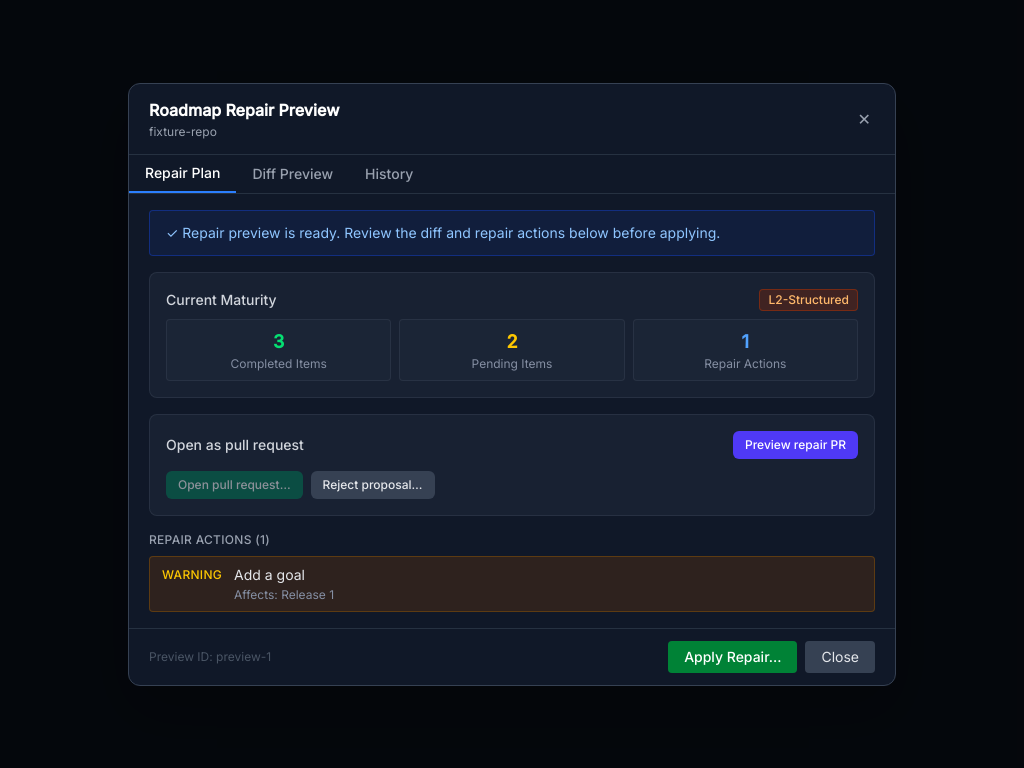
RoadmapRepairModal — the live PR and the recorded decision › requires a reason to reject, and records the rejection with its review time
The image size is (1024, 768).
Expected: the text "Repair preview is ready" is shown, [166,224,720,240]
Click the button with test id "repair-reject" at (373, 484), box [311,470,434,498]
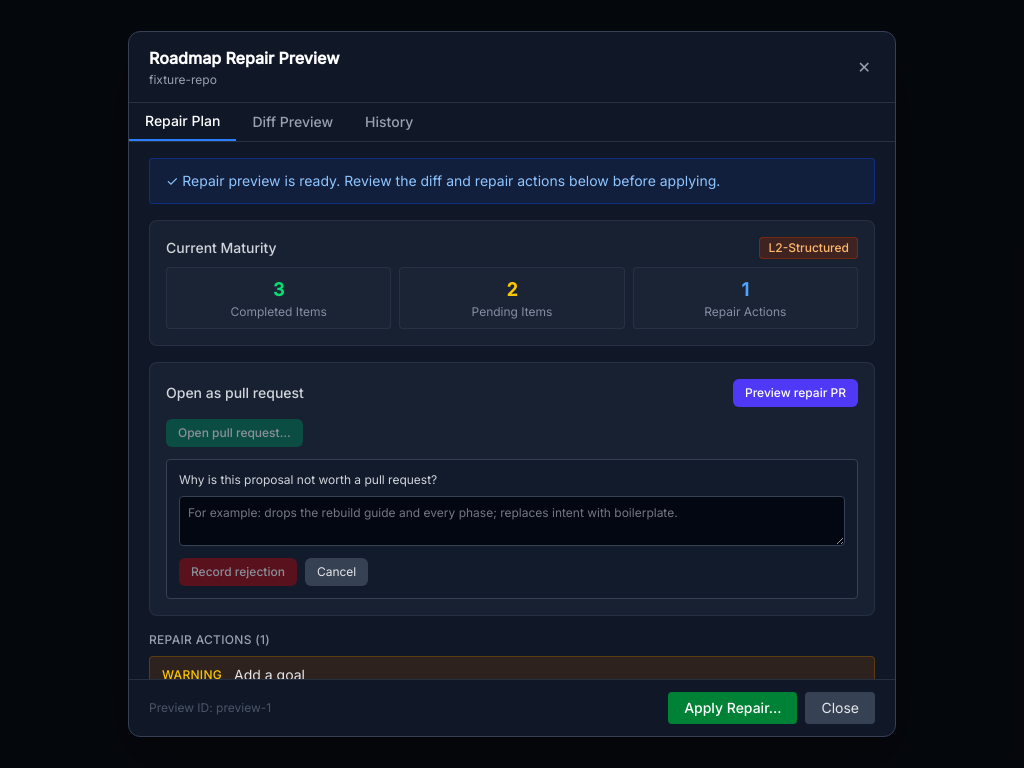
Expected: the button with test id "repair-reject-submit" is disabled, [179,558,297,586]
Replace the text in the text box labelled "Why is this proposal not worth a pull request?" with "drops every phase" at (512, 521), box [179,496,845,546]
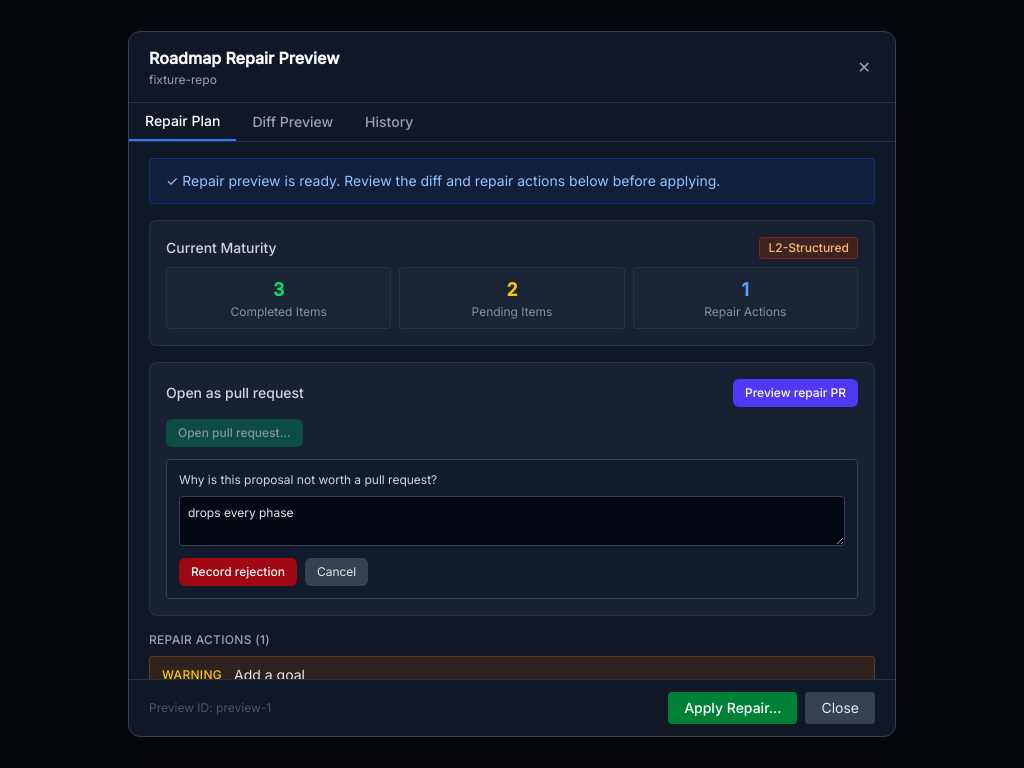
Click the button with test id "repair-reject-submit" at (238, 572), box [179,558,297,586]
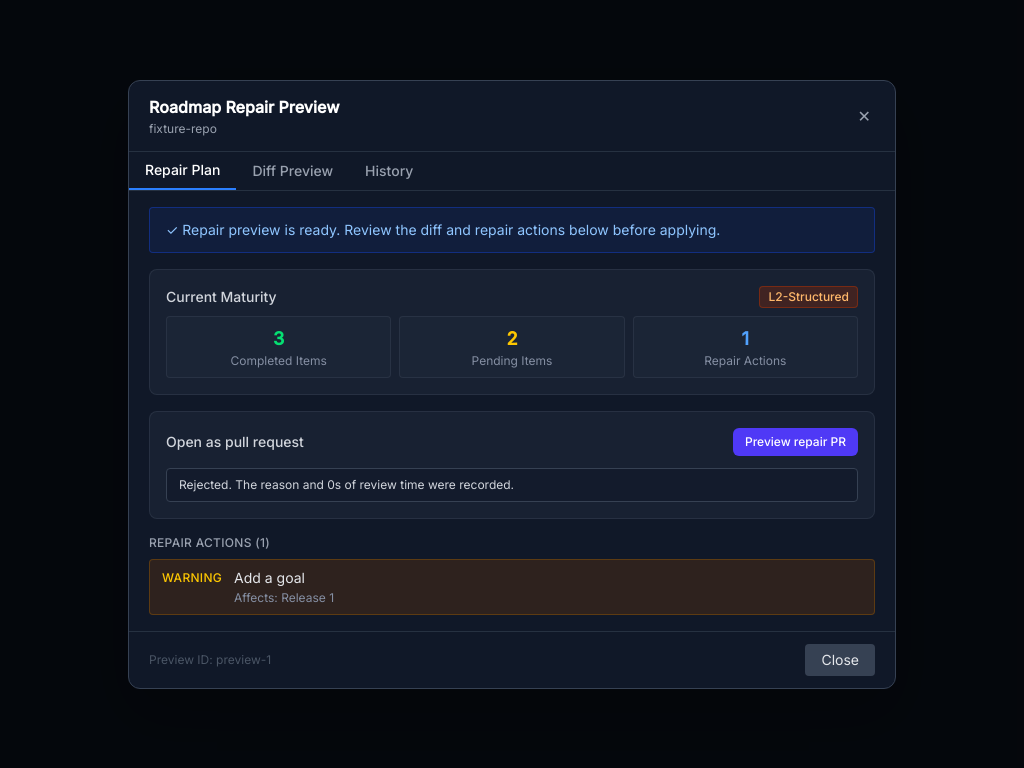
Expected: the text "Rejected. The reason and 0s of review time were recorded." is shown, [166,468,858,502]
